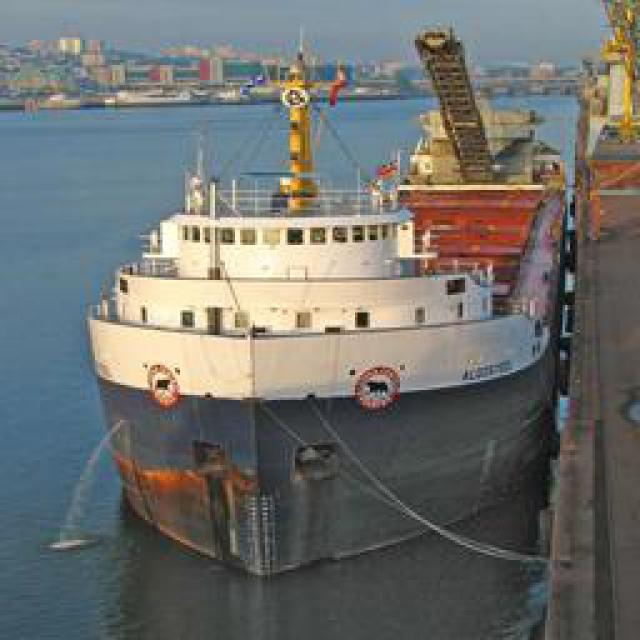Ship: (78, 1, 574, 584)
